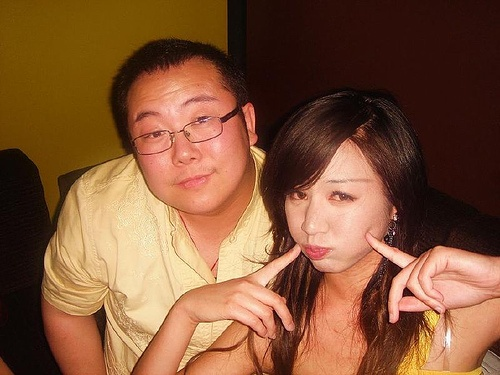head: (270, 88, 421, 277), (110, 37, 264, 220)
person: (128, 87, 500, 375), (41, 27, 292, 375)
